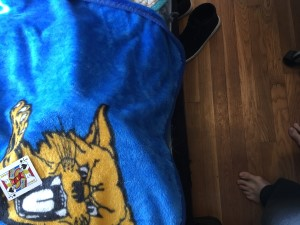JackOfSpades: (1, 153, 43, 205)
